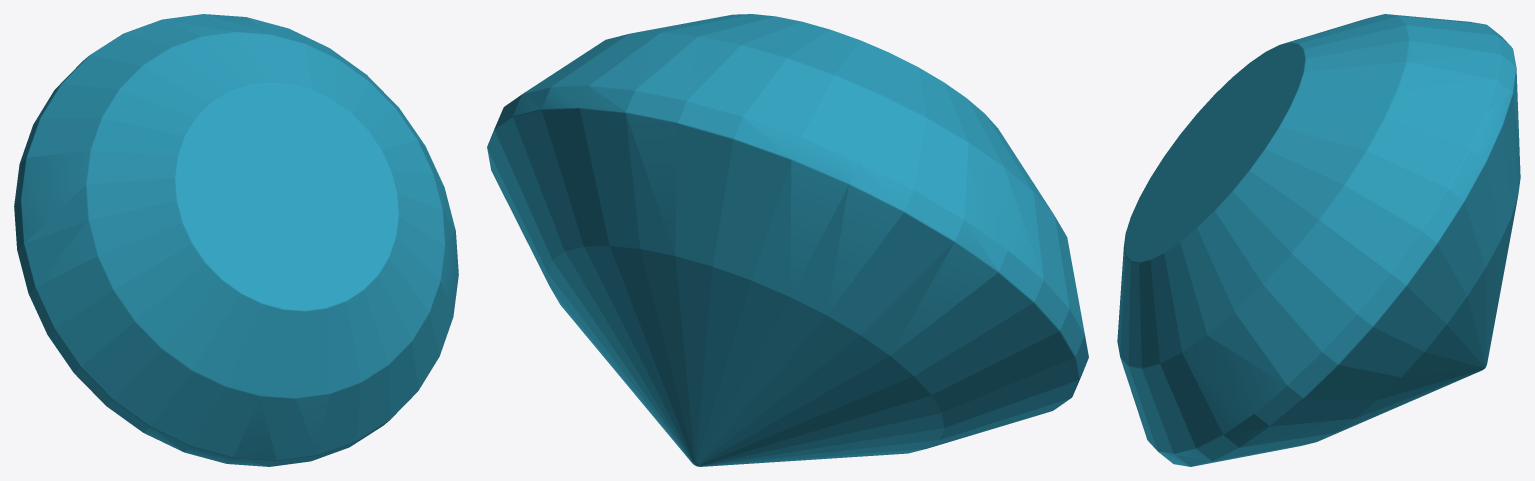
The model's file is zircon.glb.
The picture shows the model from 3 angles, left to right: view 1: azimuth 30°, elevation 25°; view 2: azimuth 150°, elevation 25°; view 3: azimuth 270°, elevation 25°; orthographic projection. The views are drawn at different scales.
Visible parts, largest first — view 1: zircon.001; view 2: zircon.001; view 3: zircon.001.
Boxes of the visible parts, left/top/right/bottom form: zircon.001: left=14, top=14, right=458, bottom=466; zircon.001: left=487, top=14, right=1088, bottom=466; zircon.001: left=1117, top=14, right=1520, bottom=466.
Size of the model in its own units: 2.1 by 1.69 by 1.57.
